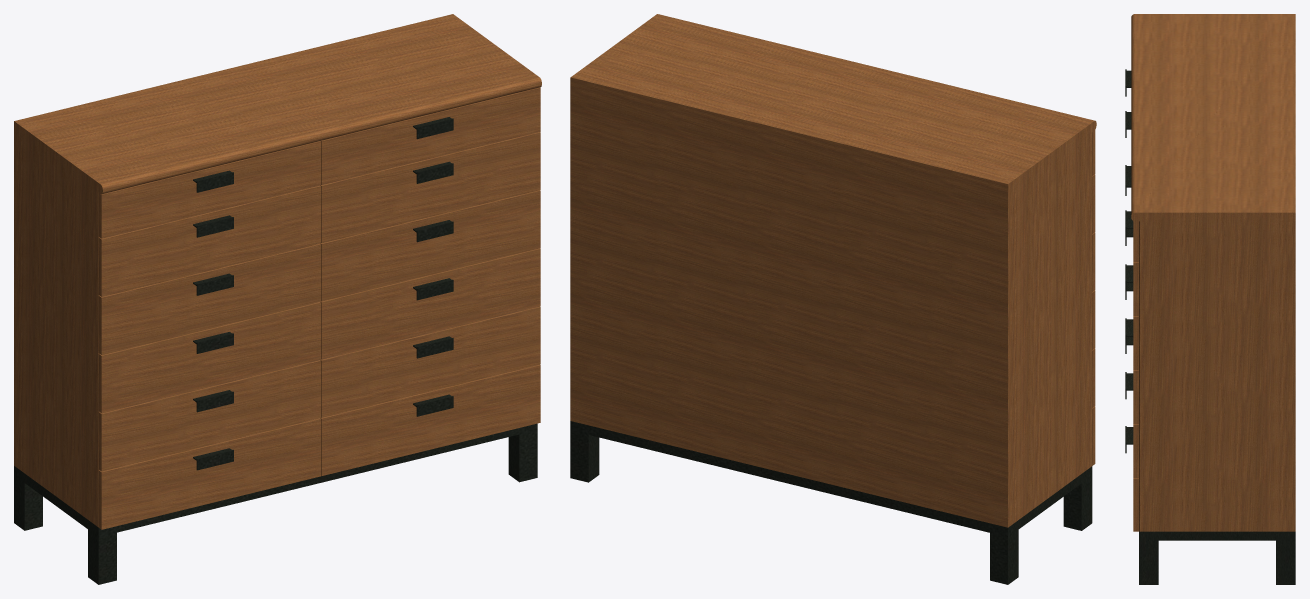
File: OfficeDrawersShort.DAE
3 renders of one model, left to right at view 1: azimuth 30°, elevation 25°; view 2: azimuth 150°, elevation 25°; view 3: azimuth 270°, elevation 25°, orthographic. The views are drawn at different scales.
Parts seen in each view (by area): view 1: OfficeDrawersShort300; view 2: OfficeDrawersShort300; view 3: OfficeDrawersShort300.
Part boxes in pixels (x1,y1,x2,y2): OfficeDrawersShort300: (14, 14, 541, 584); OfficeDrawersShort300: (570, 14, 1096, 584); OfficeDrawersShort300: (1125, 14, 1295, 584).
Size of what is drawn, in the model's own units: 1520 by 551 by 1330.
